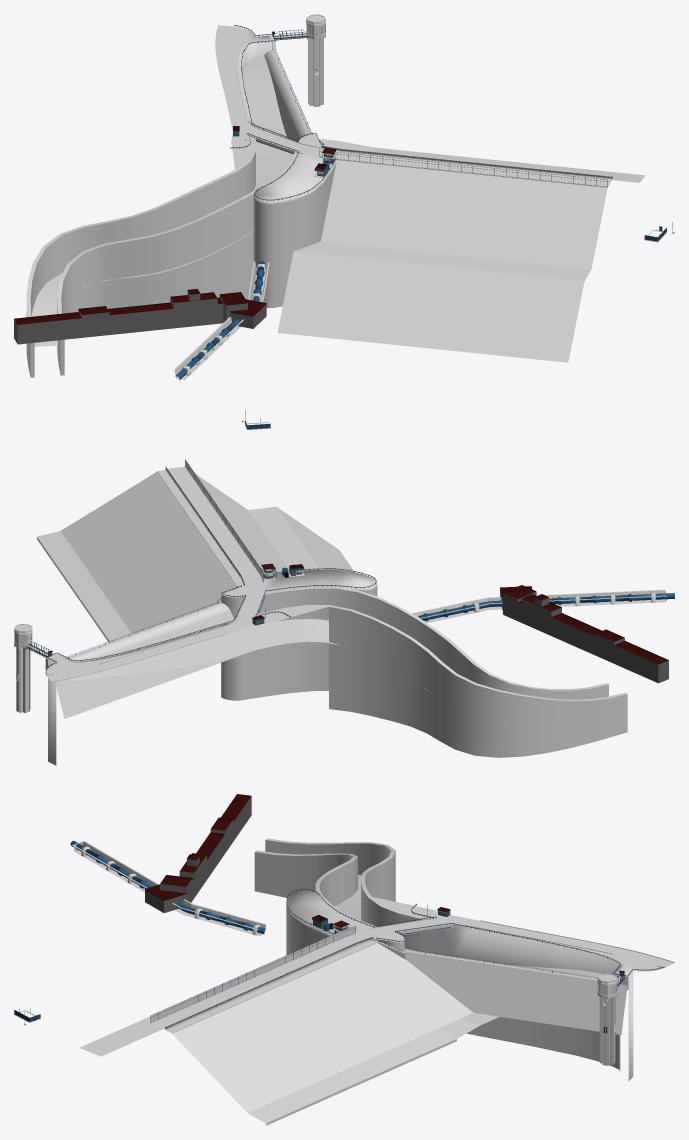
The model's file is Msh_Sitio.glb.
The picture shows the model from 3 angles, top to bottom: view 1: azimuth 30°, elevation 25°; view 2: azimuth 150°, elevation 25°; view 3: azimuth 270°, elevation 25°; orthographic projection. The views are drawn at different scales.
Parts seen in each view (by area): view 1: Msh_Sitio; view 2: Msh_Sitio; view 3: Msh_Sitio.
Boxes of the visible parts, x1=… form: Msh_Sitio: x1=14, y1=14, x2=674, y2=380; Msh_Sitio: x1=14, y1=410, x2=674, y2=765; Msh_Sitio: x1=14, y1=794, x2=674, y2=1125.
Size of the model in its own units: 354 by 64.46 by 317.
